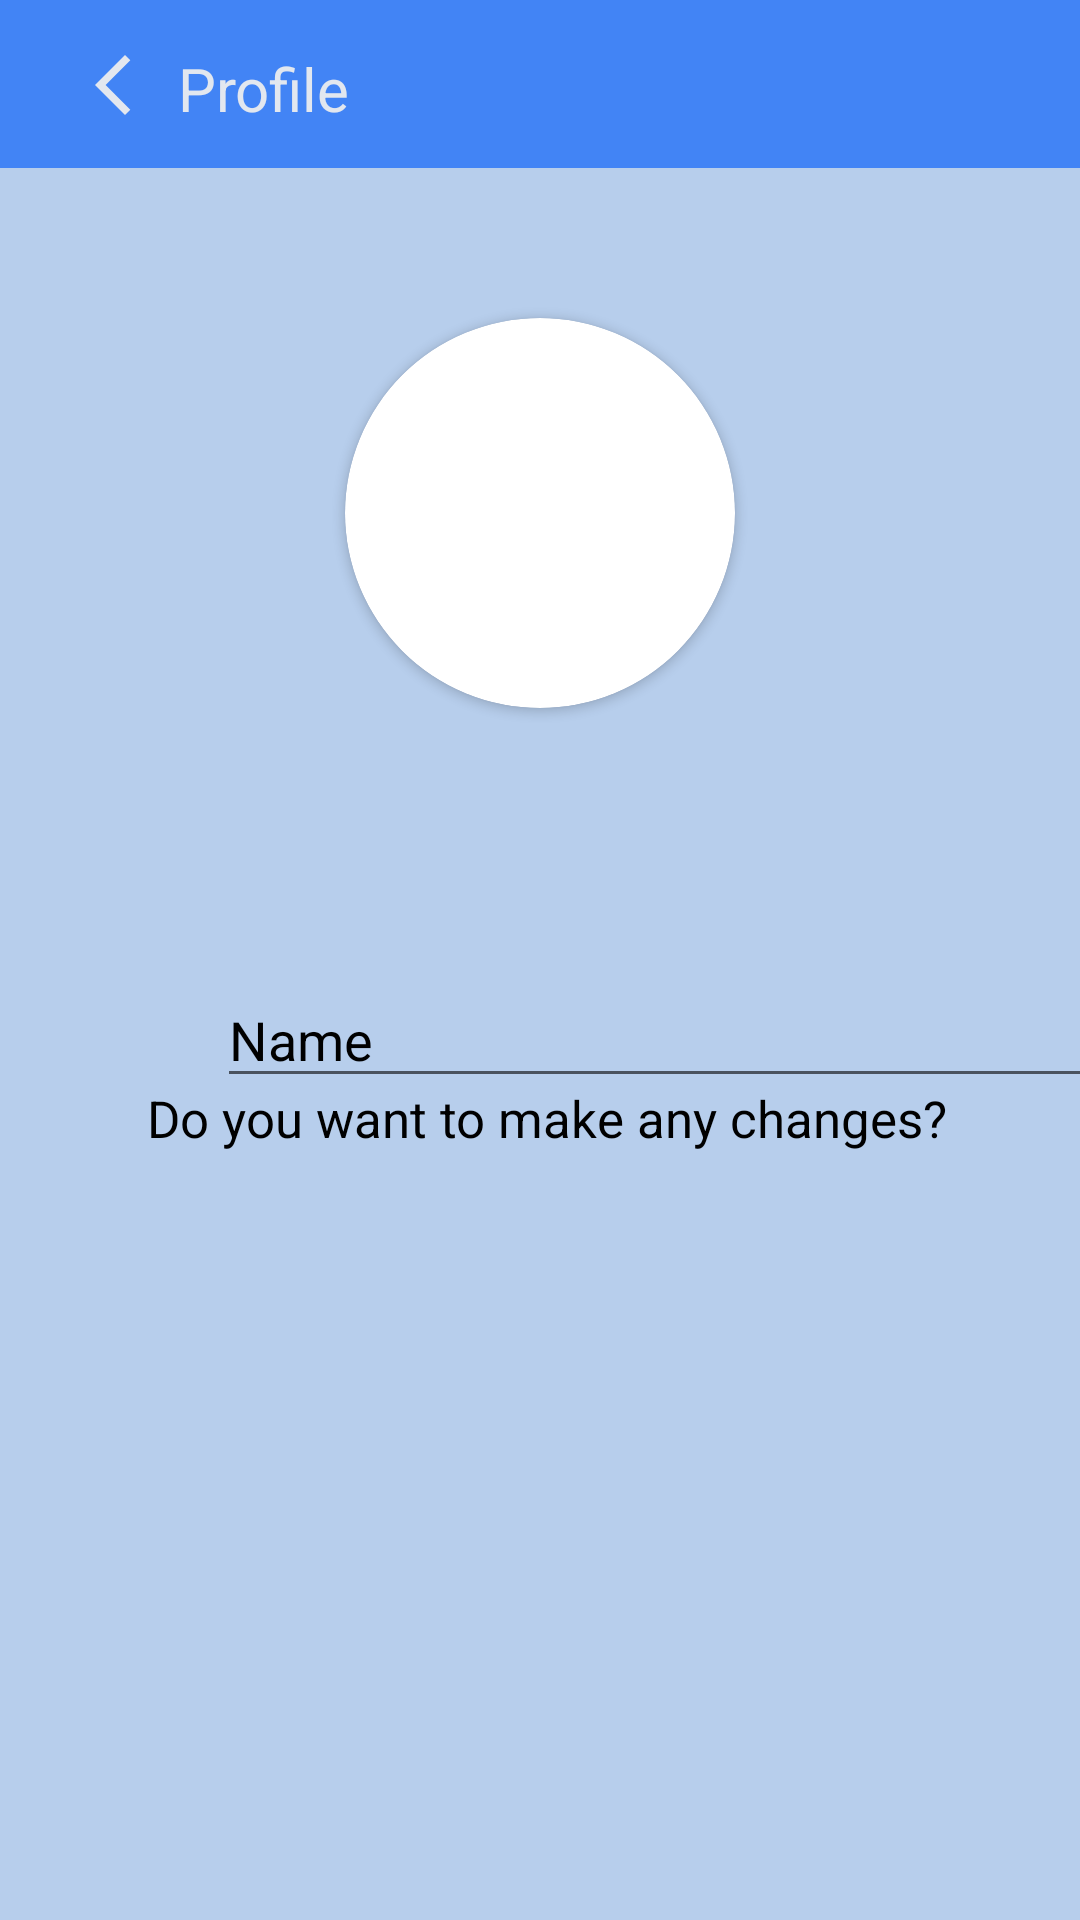

Locate icon controls on the screen. Image size 1080*1920, boxes as [x1, y1, x2, y2].
arrow back: [95, 55, 130, 115]
